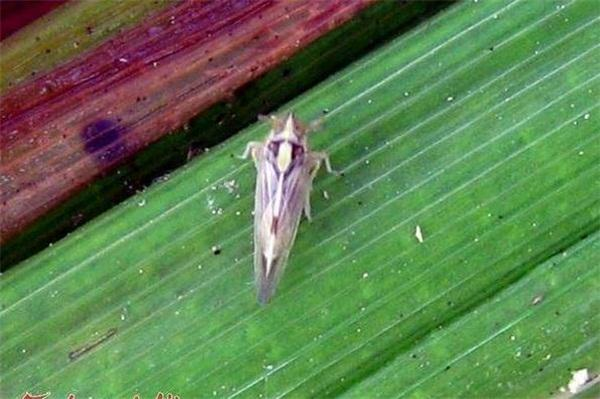Delphacidae: (230, 112, 346, 306)
